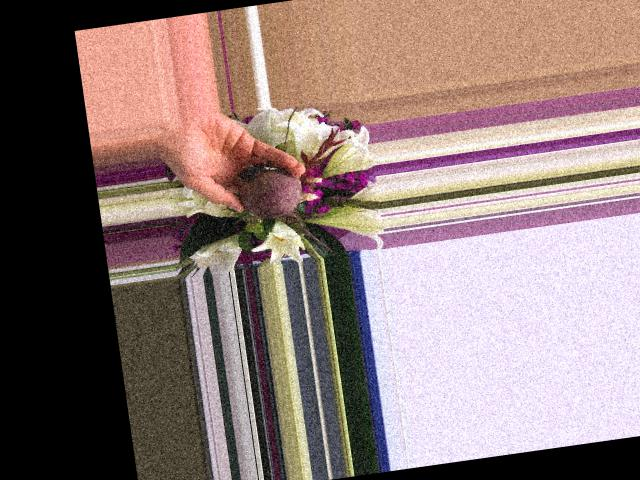beet: (235, 154, 335, 265)
